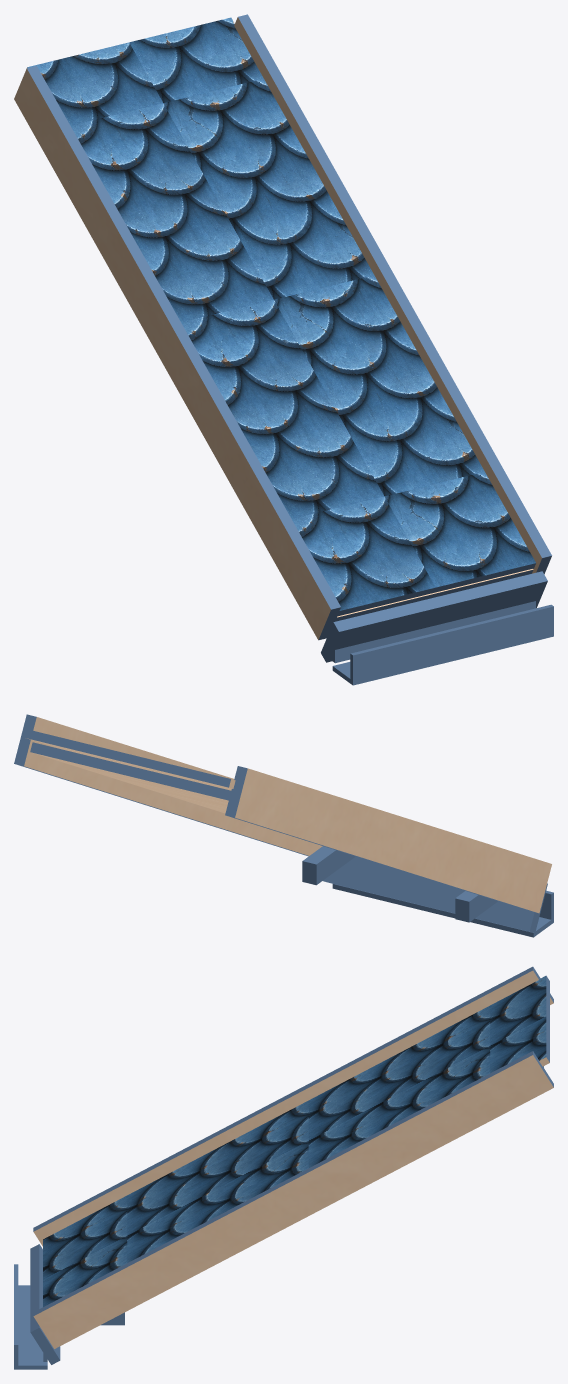
File: Roof_EdgePanel_1m.fbx
The picture shows the model from 3 angles, top to bottom: view 1: azimuth 30°, elevation 25°; view 2: azimuth 150°, elevation 25°; view 3: azimuth 270°, elevation 25°; orthographic projection. The views are drawn at different scales.
Parts seen in each view (by area): view 1: Roof_EdgePanel_1m; view 2: Roof_EdgePanel_1m; view 3: Roof_EdgePanel_1m.
Part boxes in pixels (x1=…): Roof_EdgePanel_1m: x1=14, y1=14, x2=553, y2=685; Roof_EdgePanel_1m: x1=14, y1=714, x2=553, y2=937; Roof_EdgePanel_1m: x1=14, y1=966, x2=553, y2=1369.
Bounding box in the file's own units: 1 × 1.68 × 2.58.
2 materials, 2 textured.
